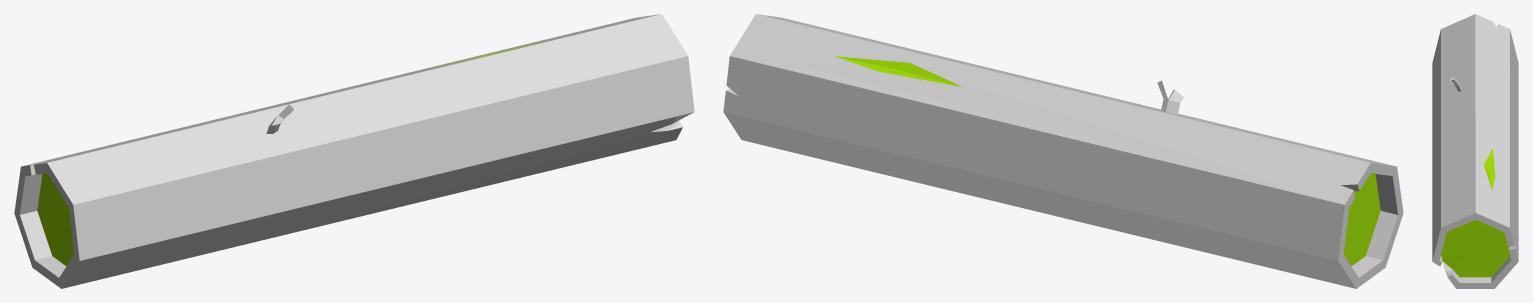
The model's file is Kloda3.fbx.
3 views of the same model, side by side, from view 1: azimuth 30°, elevation 25°; view 2: azimuth 150°, elevation 25°; view 3: azimuth 270°, elevation 25° (orthographic). The views are drawn at different scales.
Visible parts, largest first — view 1: Cylinder_5; view 2: Cylinder_5; view 3: Cylinder_5.
Boxes of the visible parts, x1,y1,x2,y2 form: Cylinder_5: (14, 14, 694, 288); Cylinder_5: (723, 14, 1403, 288); Cylinder_5: (1432, 14, 1518, 288).
Bounding box in the file's own units: 530 × 109 × 97.49.
